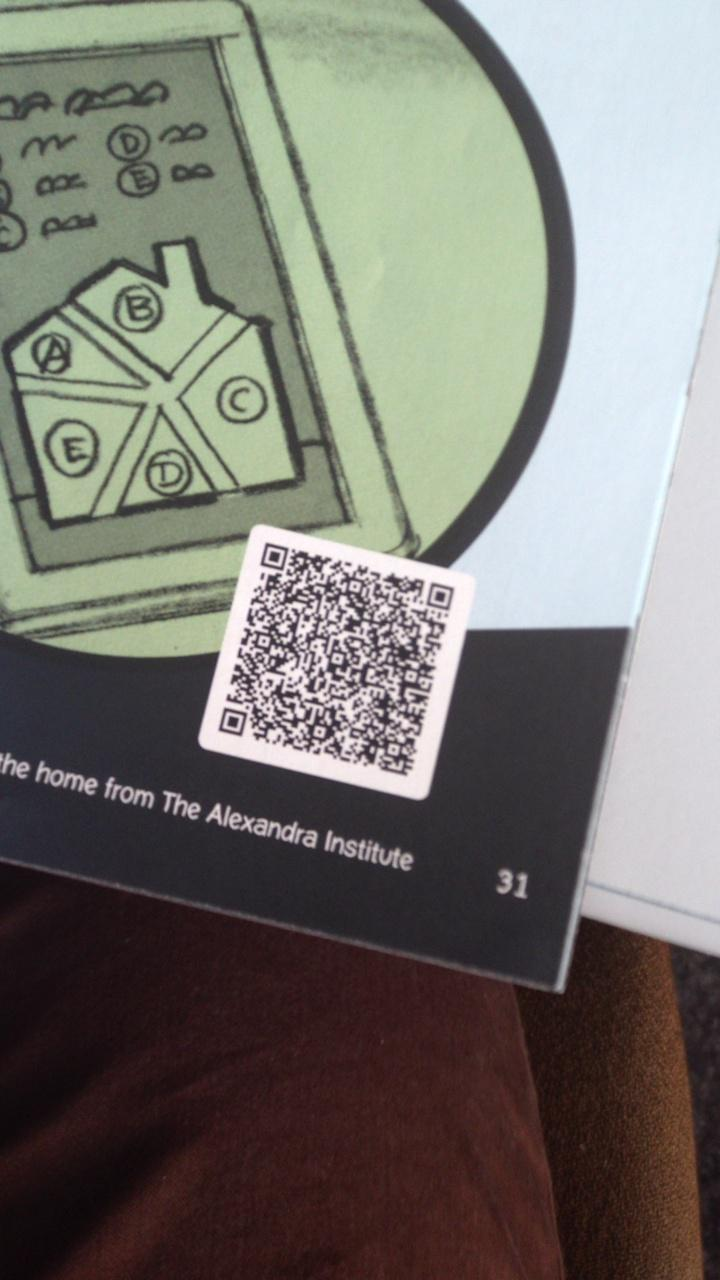Finder pattern: (214, 705, 251, 742), (256, 537, 292, 573), (423, 577, 457, 613)
